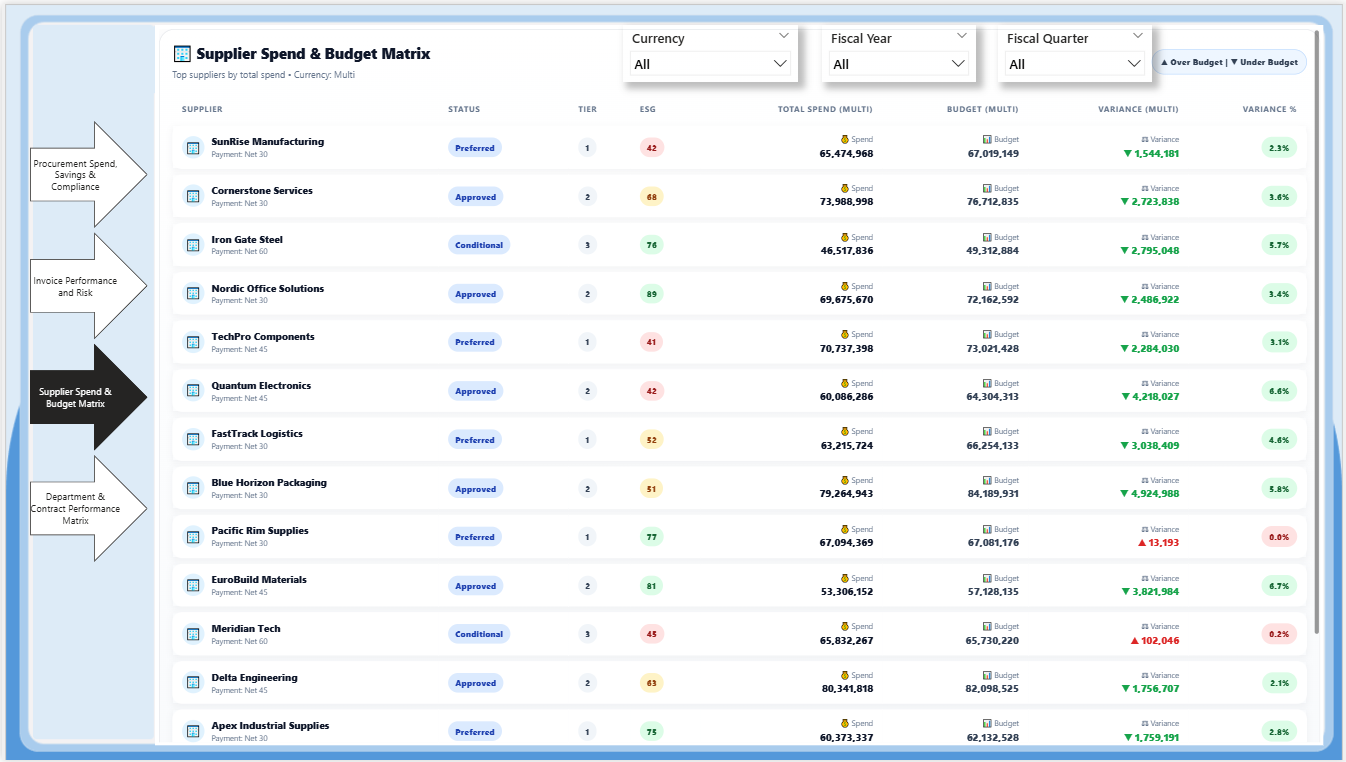

The dashboard page shown, as its layout file describes it:
{"tool":"powerbi","page":{"name":"Supplier Spend & Budget Matrix","canvas":[1920,1080],"ordinal":2},"visuals":[{"type":"htmlContent443BE3AD55E043BF878BED274D3A6855","fields":{"content":["Dax Measure.Supplier Matrix HTML"]},"box":[218.6,30,1668.6,1028.6],"z":0},{"type":"pageNavigator","box":[40,167.1,168.6,632.9],"z":1000},{"type":"slicer","fields":{"Values":["Fact_Procurement.Currency"]},"box":[887.1,30,250,81.4],"z":2000},{"type":"slicer","fields":{"Values":["Dim_Date.Fiscal Year"]},"box":[1171.4,30,220,81.4],"z":3000},{"type":"slicer","fields":{"Values":["Dim_Date.Fiscal Quarter"]},"box":[1422.9,30,220,81.4],"z":4000}]}

Visuals, with their boxes in screenshot pixels (x1, y1, x2, y2), scaled from the page's 1920x1080 canvas onto the 1346x762 screenshot:
htmlContent443BE3AD55E043BF878BED274D3A6855 - Dax Measure.Supplier Matrix HTML: 153,21,1323,747
pageNavigator: 28,118,146,564
slicer - Fact_Procurement.Currency: 622,21,797,79
slicer - Dim_Date.Fiscal Year: 821,21,975,79
slicer - Dim_Date.Fiscal Quarter: 998,21,1152,79
